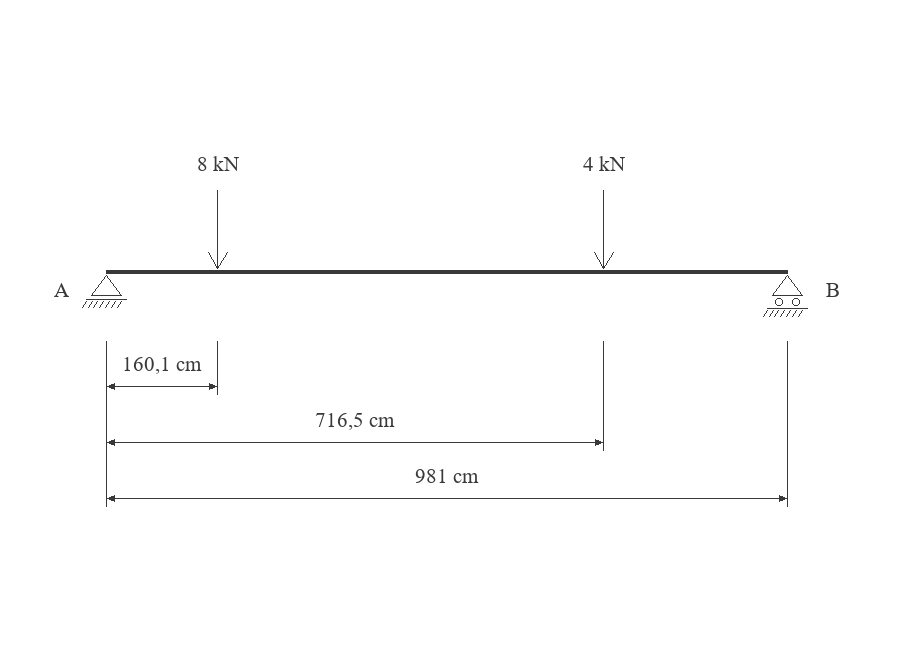pin_support: (82, 275, 127, 308)
point_load: (208, 190, 228, 269), (594, 190, 614, 269)
roller_support: (763, 275, 808, 317)
